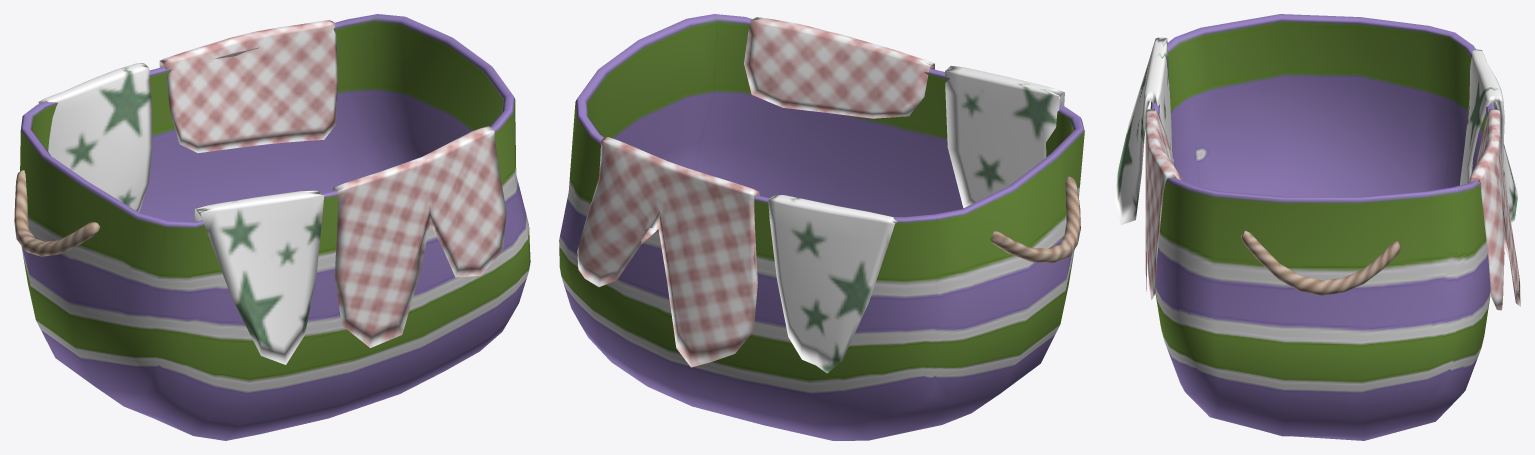
File: MDL_LaundryBag.fbx
3 views of the same model, side by side, from view 1: azimuth 30°, elevation 25°; view 2: azimuth 150°, elevation 25°; view 3: azimuth 270°, elevation 25° (orthographic). The views are drawn at different scales.
Parts seen in each view (by area): view 1: MDL_LaundryBag; view 2: MDL_LaundryBag; view 3: MDL_LaundryBag.
Boxes of the visible parts, x1=… form: MDL_LaundryBag: x1=14, y1=14, x2=530, y2=440; MDL_LaundryBag: x1=559, y1=14, x2=1084, y2=440; MDL_LaundryBag: x1=1113, y1=14, x2=1520, y2=440.
Size of the model in its own units: 40.16 by 23.78 by 30.73.
1 material, 1 textured.
